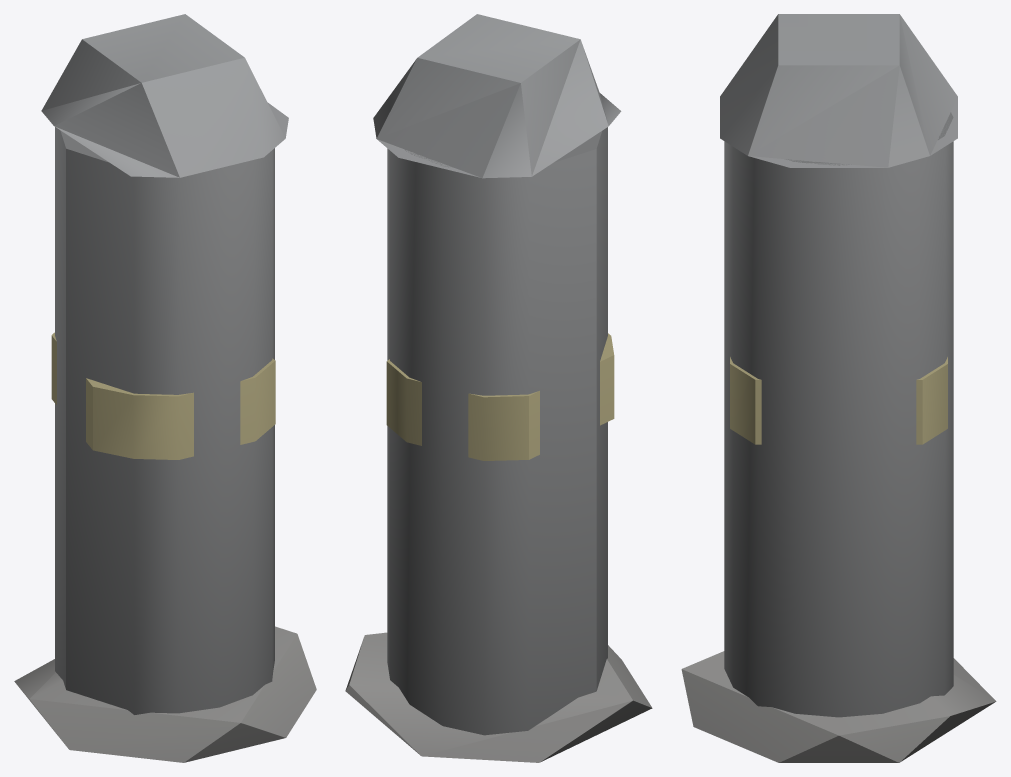
Rendered from bollard.lod1.glb.
3 views of the same model, side by side, from view 1: azimuth 30°, elevation 25°; view 2: azimuth 150°, elevation 25°; view 3: azimuth 270°, elevation 25° (orthographic).
Size of the model in its own units: 0.44 by 1.02 by 0.44.
